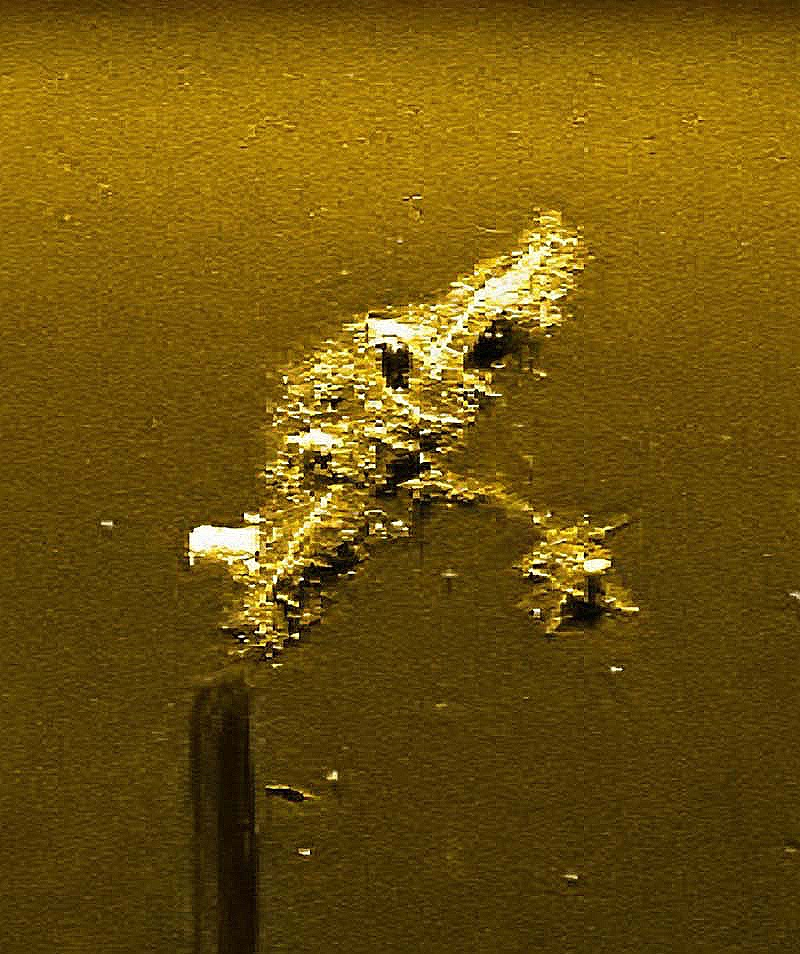aircraft: (185, 204, 646, 660)
